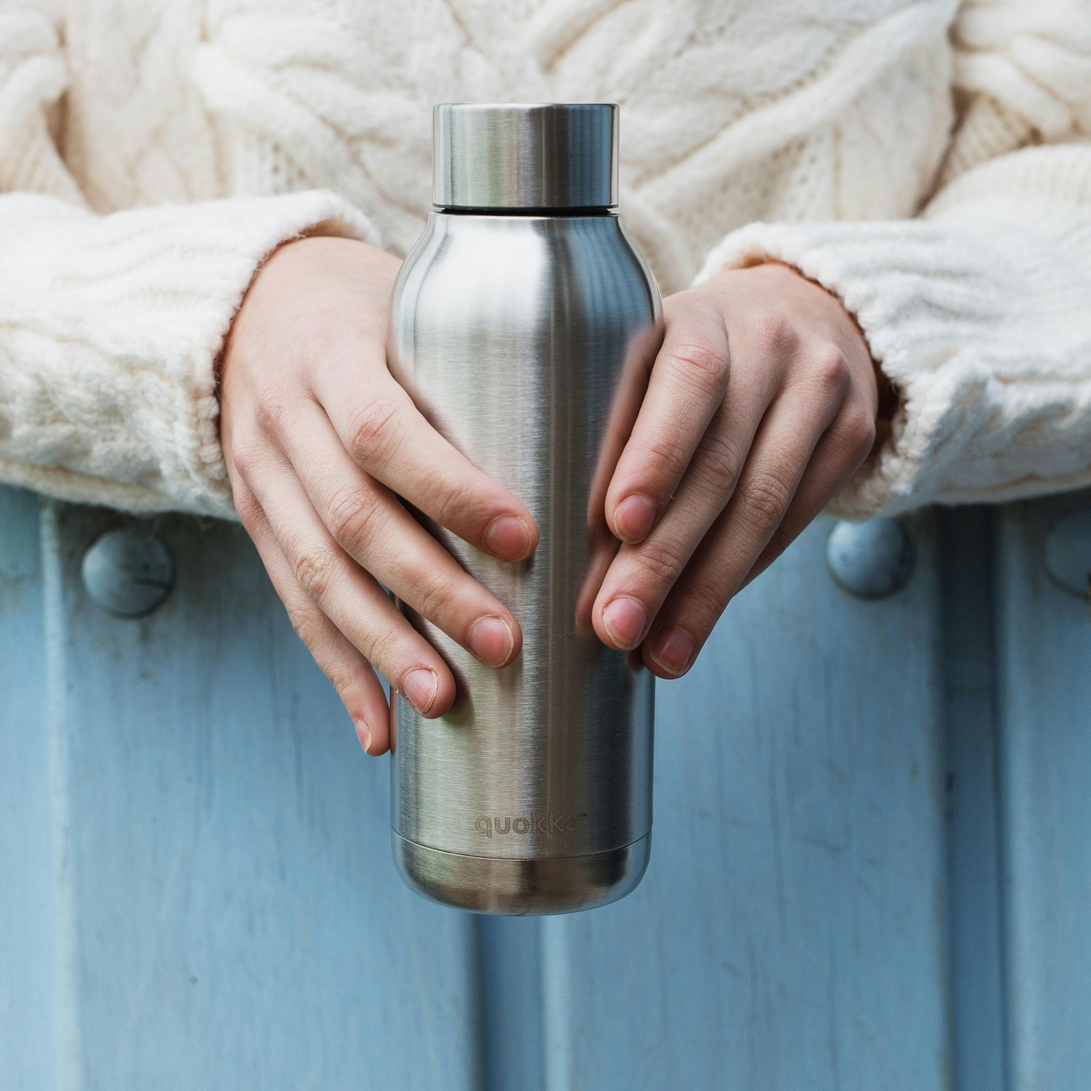Bottle-Detection: (282, 61, 764, 955)
